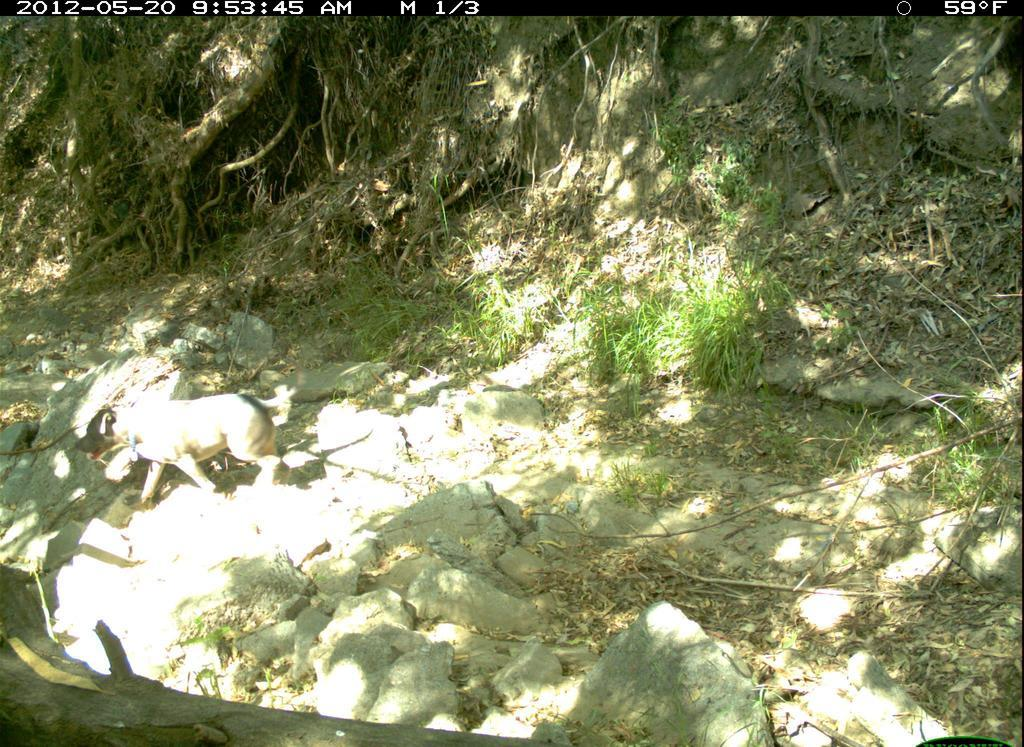dog: (66, 378, 316, 524)
